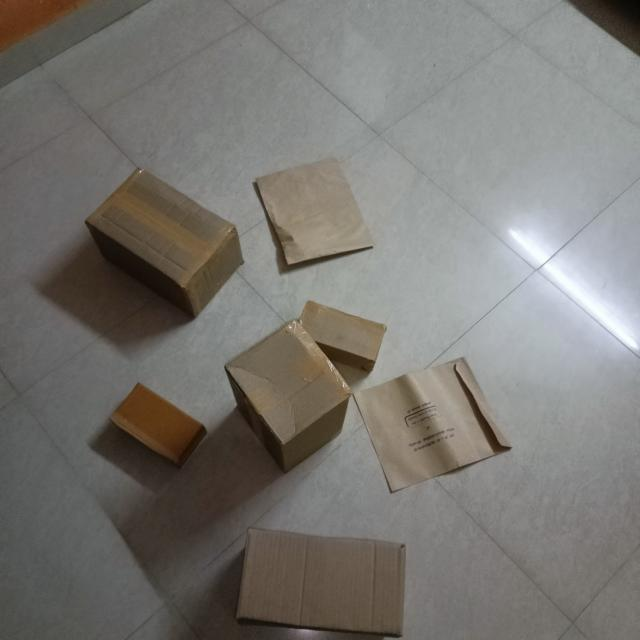box: (223, 303, 386, 477), (86, 172, 245, 320), (356, 359, 512, 496), (238, 531, 410, 640), (254, 160, 374, 273), (112, 386, 207, 468)
